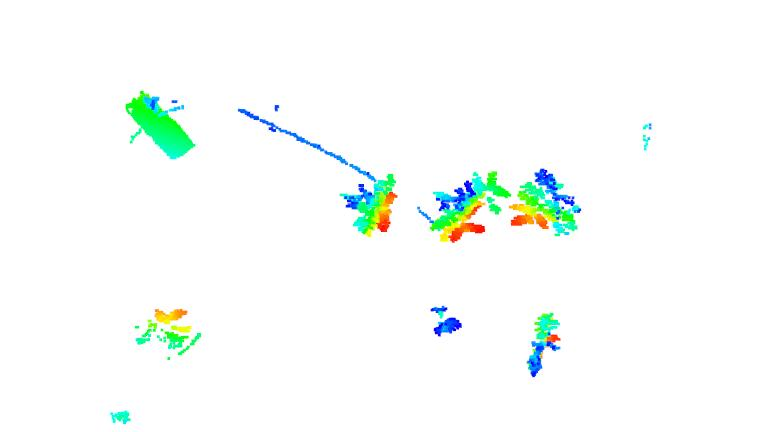chickpea: (427, 167, 512, 242), (509, 168, 583, 236), (339, 170, 405, 237), (131, 308, 197, 352), (522, 310, 563, 378)
